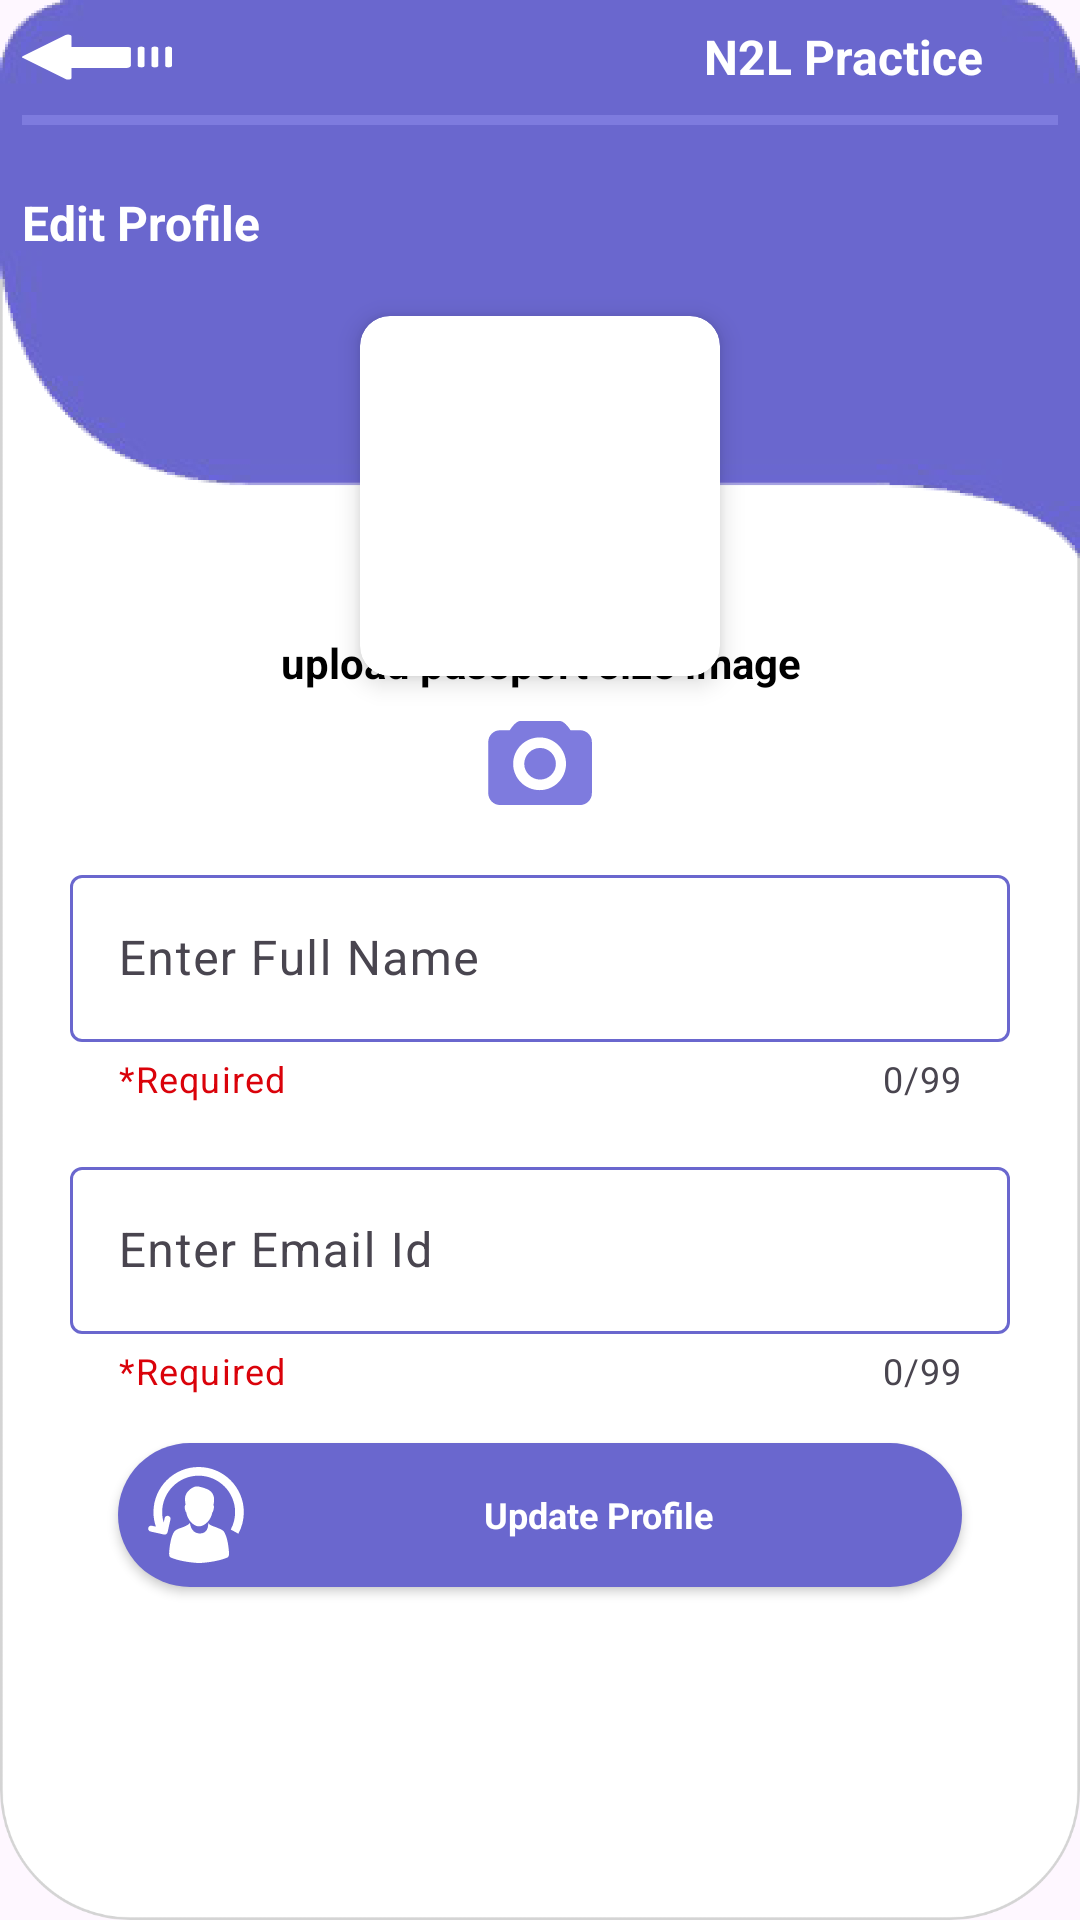

Where to tap for icons on this 1080×1920 app screen, as (x,y):
back: (97,57)
cameras: (540,763)
